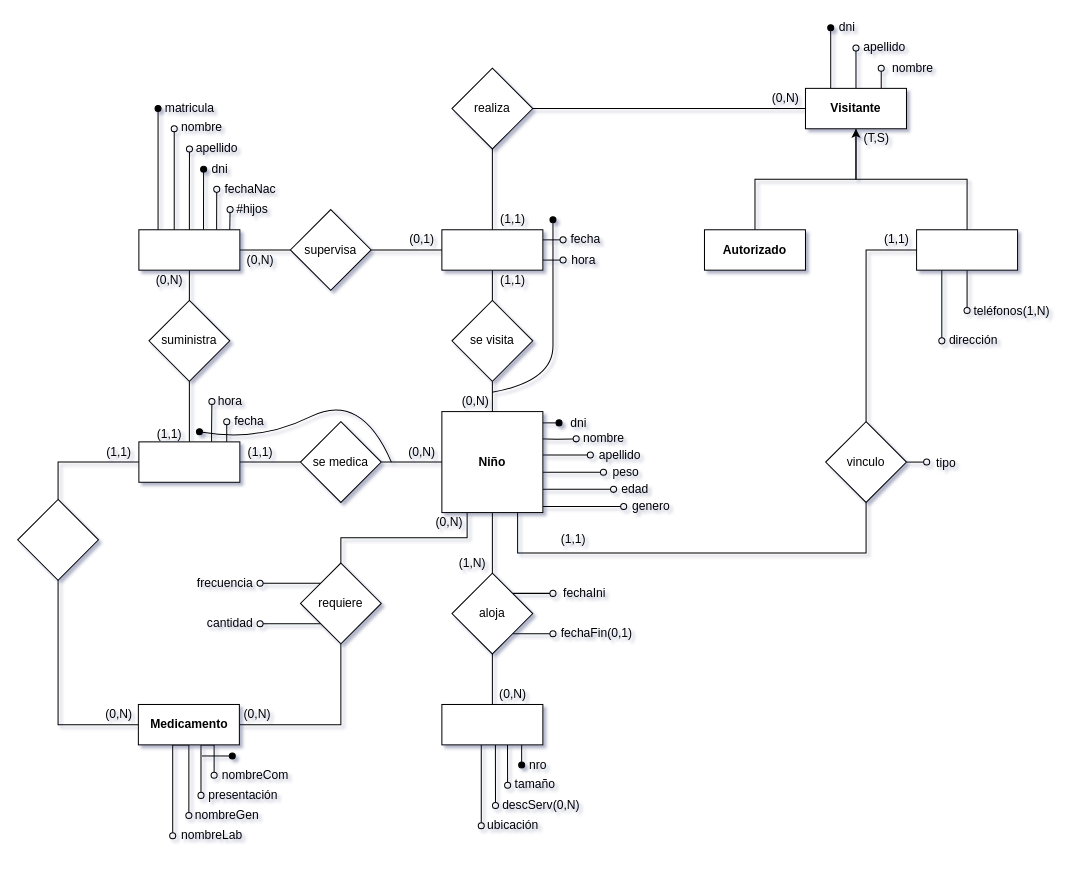
Some shapes in this 1081 by 869 pixel diagram are drawn without their labels. The centre of each missing label's shape, as x and y in pixels:
Enfermero: (x=189, y=249)
Habitación: (x=492, y=724)
se toma: (x=57, y=539)
Toma: (x=189, y=461)
Tutor: (x=967, y=249)
Visita: (x=492, y=249)
